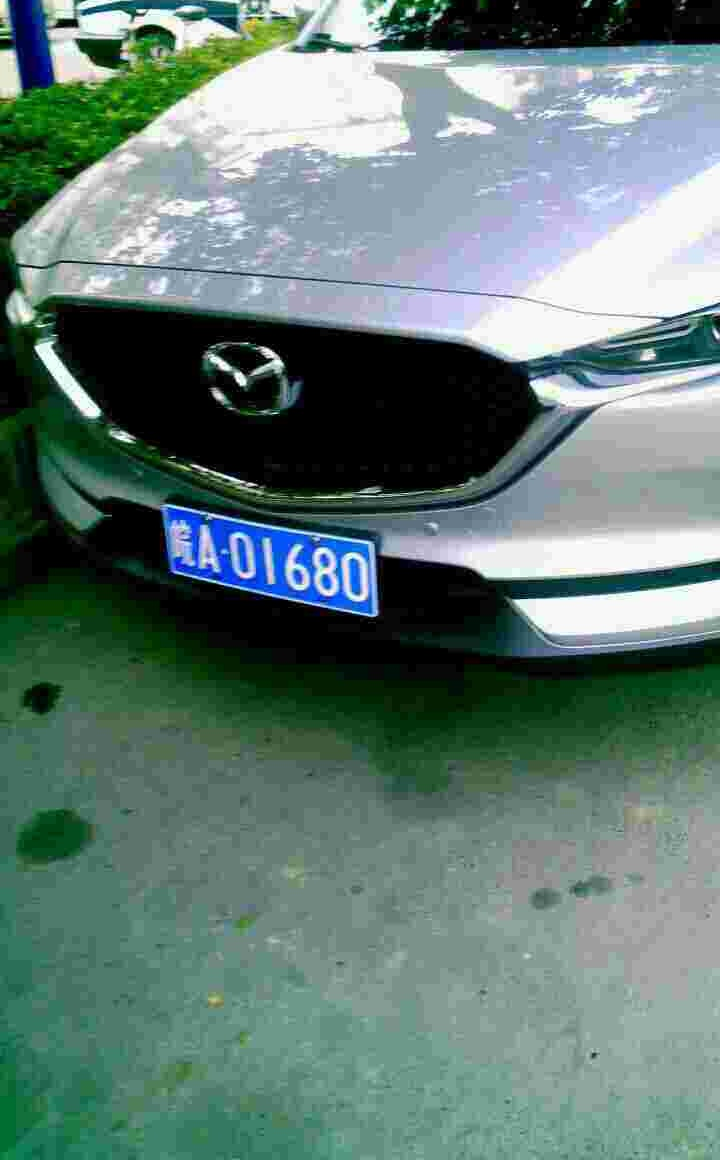license_plate: (170, 501, 383, 627)
